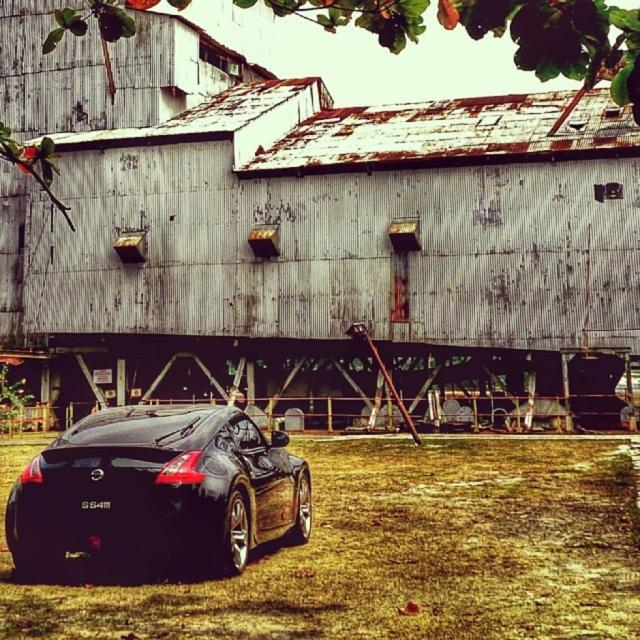car: (5, 404, 312, 575)
